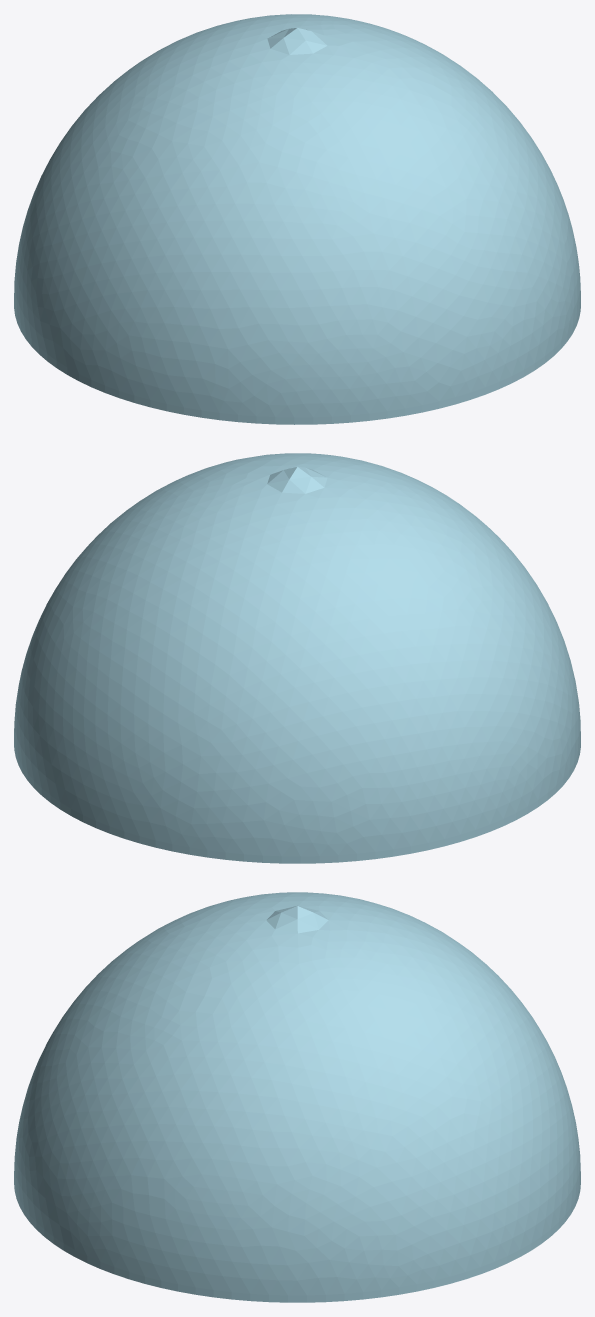
Rendered from light_case.obj.
3 renders of one model, top to bottom at view 1: azimuth 30°, elevation 25°; view 2: azimuth 150°, elevation 25°; view 3: azimuth 270°, elevation 25°, orthographic.
Parts seen in each view (by area): view 1: grp1; view 2: grp1; view 3: grp1.
Boxes of the visible parts, x1,y1,x2,y2 form: grp1: (14, 14, 580, 424); grp1: (14, 453, 580, 863); grp1: (14, 892, 580, 1302).
Size of the model in its own units: 0.1399 by 0.0755 by 0.14.
